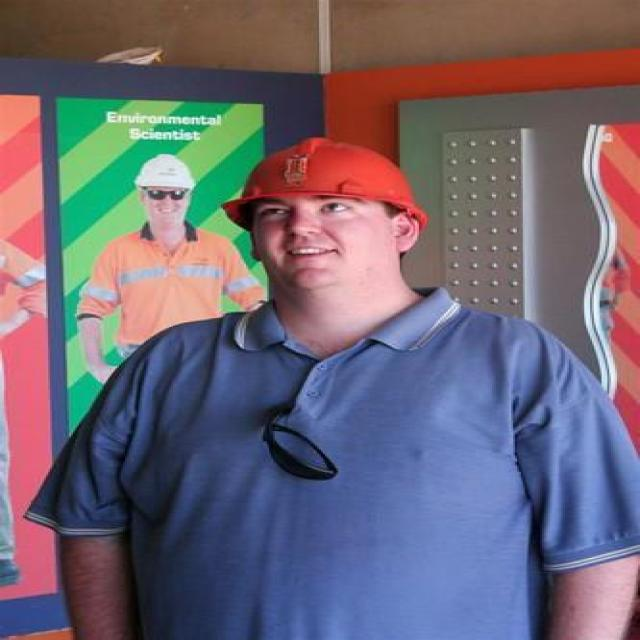Vest: (75, 227, 267, 364)
